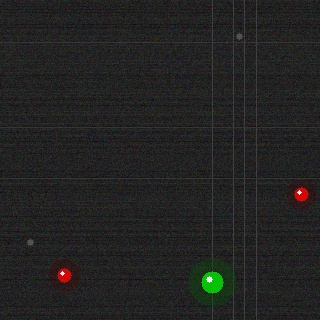green_normal: (199, 269, 225, 295)
red_fault: (292, 185, 310, 203), (55, 266, 73, 284)
